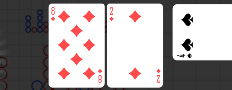4C: (176, 53, 194, 60)
8D: (97, 68, 104, 84)
